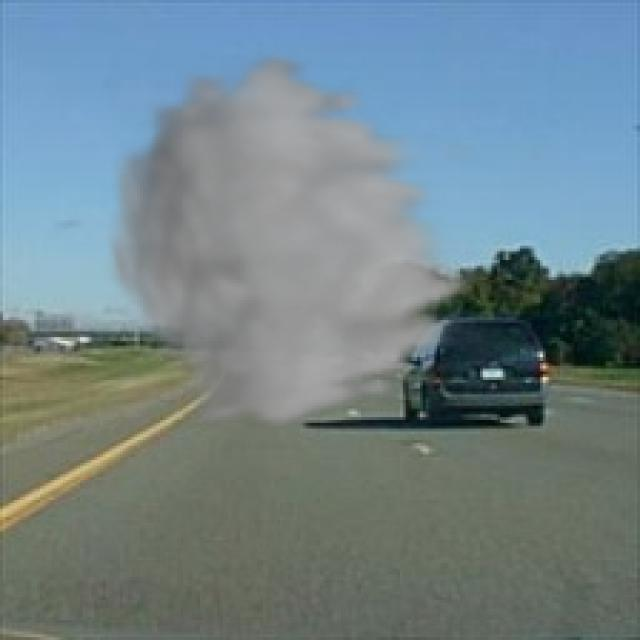smoke: (100, 49, 486, 432)
